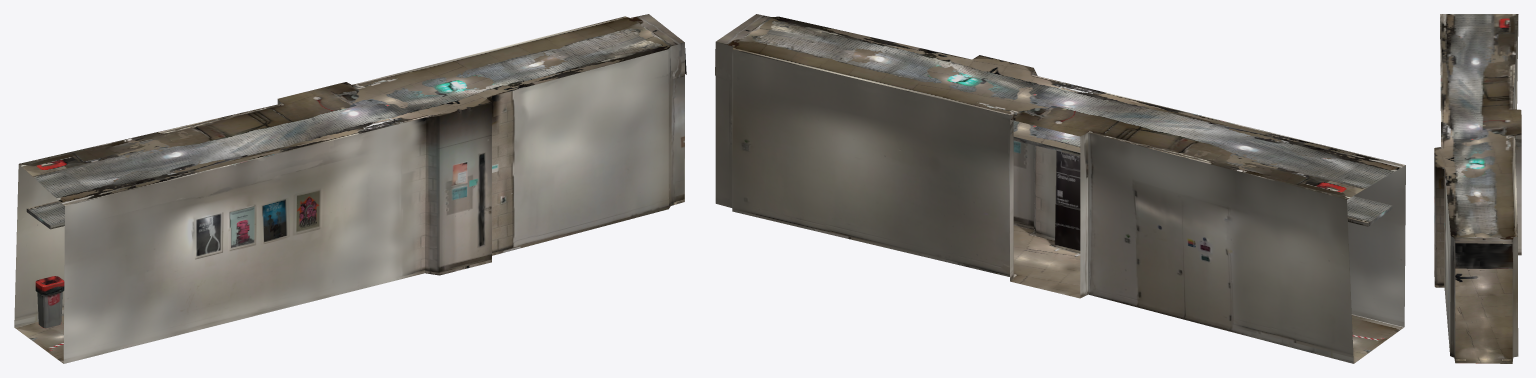
Rendered from 1-corr-2v2LP.fbx.
3 views of the same model, side by side, from view 1: azimuth 30°, elevation 25°; view 2: azimuth 150°, elevation 25°; view 3: azimuth 270°, elevation 25° (orthographic). The views are drawn at different scales.
Visible parts, largest first — view 1: 1-corr-2v2LP; view 2: 1-corr-2v2LP; view 3: 1-corr-2v2LP.
Part boxes in pixels (x1,y1,x2,y2): 1-corr-2v2LP: (14,14,686,363); 1-corr-2v2LP: (715,14,1405,363); 1-corr-2v2LP: (1434,14,1521,363).
Size of the model in its own units: 1279 by 312 by 204.
1 material, 1 textured.
